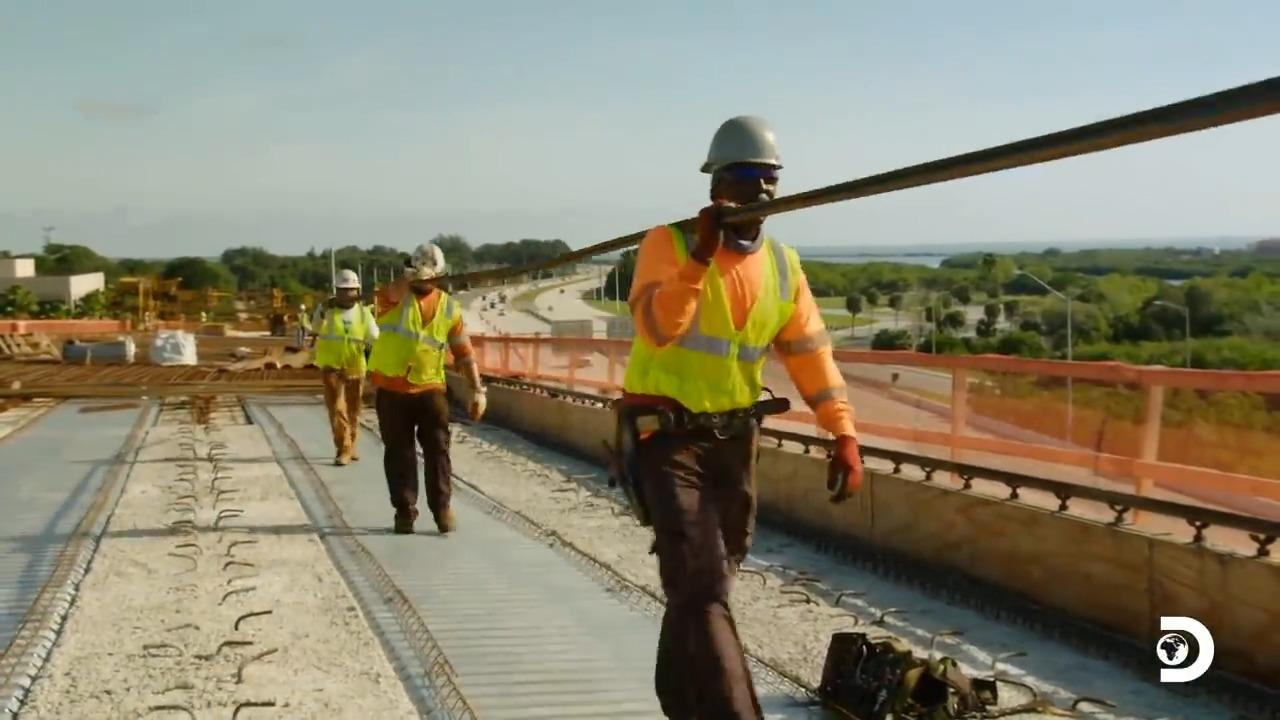Gloves: (825, 438, 874, 500), (702, 201, 739, 247), (461, 390, 493, 419)
Helmet: (699, 114, 783, 174), (403, 242, 448, 281), (334, 268, 361, 290)
Person: (616, 114, 864, 719), (364, 241, 487, 534), (304, 268, 380, 465)
Safety Boot: (431, 507, 460, 534), (334, 448, 364, 467), (394, 506, 414, 532)
Safety Vest: (654, 254, 781, 402), (385, 297, 449, 381), (321, 312, 368, 372)
